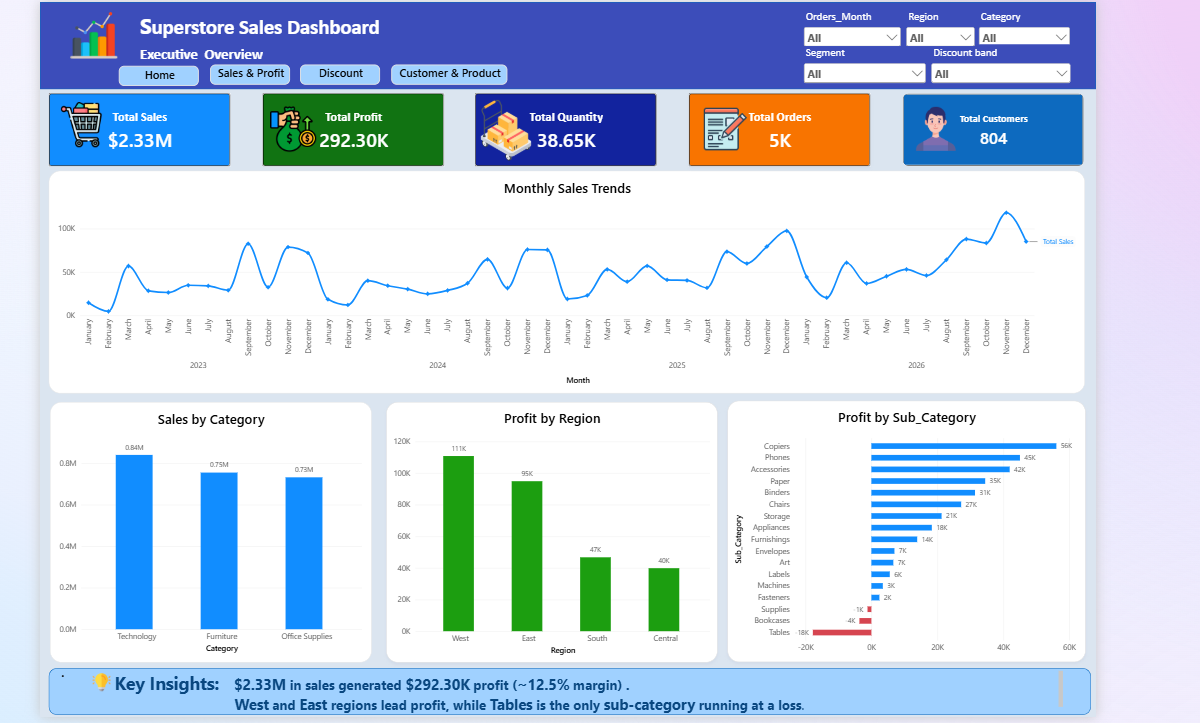

The dashboard page shown, as its layout file describes it:
{"tool":"powerbi","page":{"name":"Executive DashBoard","canvas":[1920,1300],"ordinal":0},"visuals":[{"type":"shape","box":[0,0,1920,158.6],"z":0,"group":"g1"},{"type":"group","id":"g1","title":"Group 2","box":[0,0,1920,158.6],"z":0,"group":"g2"},{"type":"group","id":"g2","title":"Group 1","box":[0,0,1920,158.6],"z":0},{"type":"cardVisual","fields":{"Data":["Key Measure.Total Sales"]},"box":[16.7,167,330,133],"z":0,"group":"g3"},{"type":"group","id":"g3","title":"Group 4","box":[16.7,167,330,133],"z":0,"group":"g8"},{"type":"cardVisual","fields":{"Data":["Key Measure.Total Profit"]},"box":[404.9,167,330,133],"z":0,"group":"g4"},{"type":"cardVisual","fields":{"Data":["Key Measure.Total Quantity"]},"box":[793,167,330,133],"z":0,"group":"g5"},{"type":"cardVisual","fields":{"Data":["Key Measure.Total Orders"]},"box":[1181.2,167,330,133],"z":0,"group":"g6"},{"type":"cardVisual","fields":{"Data":["Key Measure.Total Customers"]},"box":[1569.4,167,330,133],"z":0,"group":"g7"},{"type":"shape","box":[15.4,1210.3,1894.9,84.6],"z":0,"group":"g9"},{"type":"textbox","box":[181.6,18.8,987.1,60.5],"z":1000,"group":"g1"},{"type":"group","id":"g4","title":"Group 5","box":[404.9,167,330,133],"z":1000,"group":"g8"},{"type":"image","box":[1590.7,182.8,79.6,97.7],"z":1000,"group":"g7"},{"type":"clusteredColumnChart","title":"Sales by Category","fields":{"Category":["superstore_cleaned.Category"],"Y":["Key Measure.Total Sales"]},"box":[17.8,726.7,584.4,473.3],"z":1000},{"type":"textbox","box":[29.5,1214,1830.8,84.6],"z":1000,"group":"g9"},{"type":"textbox","box":[181.6,77.2,603.1,52.2],"z":2000,"group":"g1"},{"type":"group","id":"g5","title":"Group 6","box":[786,166,337,134],"z":2000,"group":"g8"},{"type":"image","box":[786,166,126,134],"z":2000,"group":"g5"},{"type":"image","box":[418,182,84,98],"z":2000,"group":"g4"},{"type":"image","box":[1208,182,78,98],"z":2000,"group":"g6"},{"type":"clusteredColumnChart","title":"Profit by Region","fields":{"Category":["superstore_cleaned.Region"],"Y":["Key Measure.Total Profit"]},"box":[628.9,726.7,602.2,473.3],"z":2000},{"type":"image","box":[78.5,1219.9,65.3,32.7],"z":2000,"group":"g9"},{"type":"group","id":"g6","title":"Group 7","box":[1181.2,167,330,133],"z":3000,"group":"g8"},{"type":"lineChart","title":"Monthly Sales Trends","fields":{"Category":["superstore_cleaned.Order_Date.Variation.Date Hierarchy.Year","superstore_cleaned.Order_Date.Variation.Date Hierarchy.Month"],"Y":["Key Measure.Total Sales"]},"box":[16.1,306.3,1884.1,405],"z":3000},{"type":"group","id":"g7","title":"Group 8","box":[1569.4,167,330,133],"z":4000,"group":"g8"},{"type":"clusteredBarChart","title":"Profit by Sub_Category","fields":{"Category":["superstore_cleaned.Sub_Category"],"Y":["Key Measure.Total Profit"]},"box":[1251.1,724.4,651.1,475.6],"z":4000},{"type":"slicer","fields":{"Values":["superstore_cleaned.Discount band"]},"box":[1615.3,79.3,263,79.3],"z":5000},{"type":"slicer","fields":{"Values":["superstore_cleaned.Order_Date.Variation.Date Hierarchy.Year"]},"box":[1383.7,12.5,185.7,66.8],"z":6000},{"type":"slicer","fields":{"Values":["superstore_cleaned.Segment"]},"box":[1383.7,79.3,231.7,79.3],"z":7000},{"type":"slicer","fields":{"Values":["superstore_cleaned.Region"]},"box":[1569.4,12.5,133.6,66.8],"z":8000},{"type":"slicer","fields":{"Values":["superstore_cleaned.Category"]},"box":[1702.9,12.7,175.5,63.3],"z":9000},{"type":"image","box":[32.6,18.1,132.1,85.1],"z":10000},{"type":"group","id":"g8","title":"Group 3","box":[16.7,166,1882.7,134],"z":11000},{"type":"group","id":"g9","title":"Group 9","box":[15.4,1210.3,1894.9,88.3],"z":13002},{"type":"image","box":[32,182,86,82],"z":14001,"group":"g3"}]}

Visuals, with their boxes on the page's 1920x1300 design canvas (x1, y1, x2, y2). These are canvas units, not pixel positions in the 1200x723 screenshot, which may show the page scaled, cropped or inside an application window:
shape: left=0, top=0, right=1920, bottom=159
"Group 2" group: left=0, top=0, right=1920, bottom=159
"Group 1" group: left=0, top=0, right=1920, bottom=159
cardVisual - Key Measure.Total Sales: left=17, top=167, right=347, bottom=300
"Group 4" group: left=17, top=167, right=347, bottom=300
cardVisual - Key Measure.Total Profit: left=405, top=167, right=735, bottom=300
cardVisual - Key Measure.Total Quantity: left=793, top=167, right=1123, bottom=300
cardVisual - Key Measure.Total Orders: left=1181, top=167, right=1511, bottom=300
cardVisual - Key Measure.Total Customers: left=1569, top=167, right=1899, bottom=300
shape: left=15, top=1210, right=1910, bottom=1295
textbox: left=182, top=19, right=1169, bottom=79
"Group 5" group: left=405, top=167, right=735, bottom=300
image: left=1591, top=183, right=1670, bottom=280
"Sales by Category" clusteredColumnChart: left=18, top=727, right=602, bottom=1200
textbox: left=30, top=1214, right=1860, bottom=1299
textbox: left=182, top=77, right=785, bottom=129
"Group 6" group: left=786, top=166, right=1123, bottom=300
image: left=786, top=166, right=912, bottom=300
image: left=418, top=182, right=502, bottom=280
image: left=1208, top=182, right=1286, bottom=280
"Profit by Region" clusteredColumnChart: left=629, top=727, right=1231, bottom=1200
image: left=78, top=1220, right=144, bottom=1253
"Group 7" group: left=1181, top=167, right=1511, bottom=300
"Monthly Sales Trends" lineChart: left=16, top=306, right=1900, bottom=711
"Group 8" group: left=1569, top=167, right=1899, bottom=300
"Profit by Sub_Category" clusteredBarChart: left=1251, top=724, right=1902, bottom=1200
slicer - superstore_cleaned.Discount band: left=1615, top=79, right=1878, bottom=159
slicer - superstore_cleaned.Order_Date.Variation.Date Hierarchy.Year: left=1384, top=12, right=1569, bottom=79
slicer - superstore_cleaned.Segment: left=1384, top=79, right=1615, bottom=159
slicer - superstore_cleaned.Region: left=1569, top=12, right=1703, bottom=79
slicer - superstore_cleaned.Category: left=1703, top=13, right=1878, bottom=76
image: left=33, top=18, right=165, bottom=103
"Group 3" group: left=17, top=166, right=1899, bottom=300
"Group 9" group: left=15, top=1210, right=1910, bottom=1299
image: left=32, top=182, right=118, bottom=264
